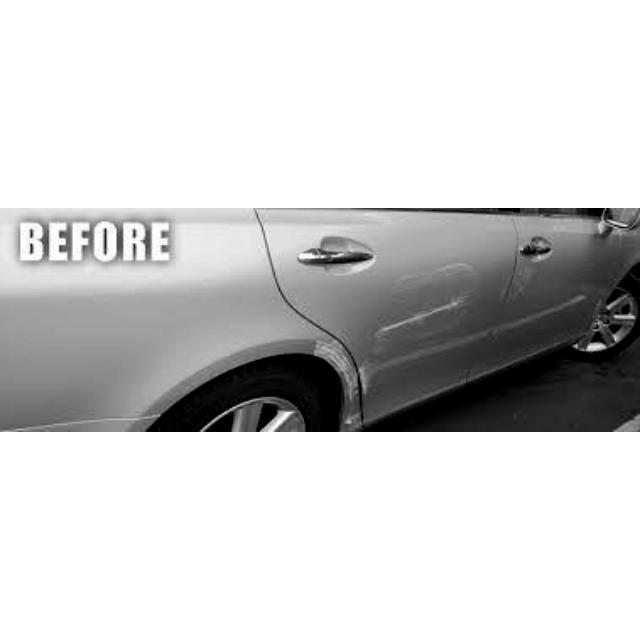doorouter-dent: (309, 209, 489, 406), (495, 219, 589, 364)
